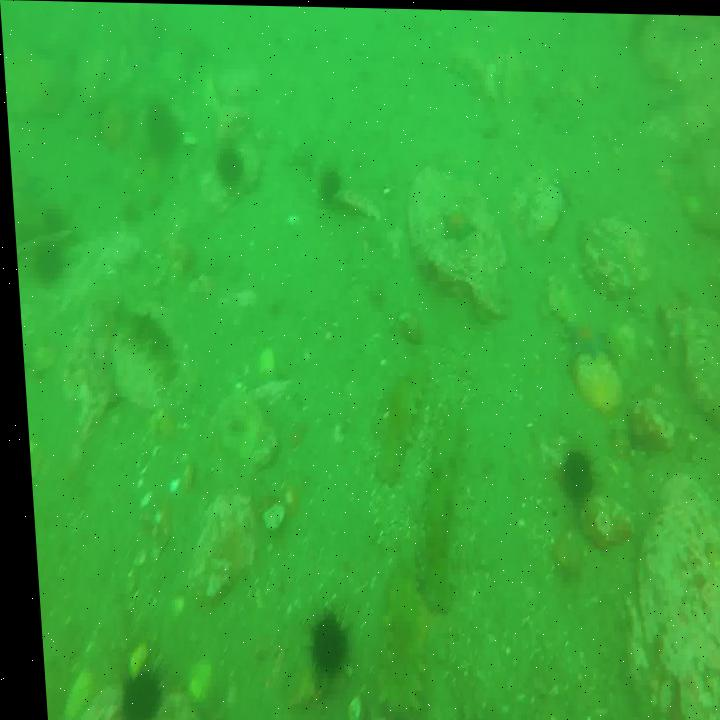echinus: (298, 607, 342, 680), (111, 663, 158, 720), (555, 441, 591, 507), (30, 239, 61, 289), (212, 142, 245, 186), (143, 104, 174, 149), (315, 165, 342, 204)
holothurian: (404, 397, 469, 610), (363, 537, 426, 720), (367, 355, 431, 477), (112, 307, 176, 374)
starfish: (560, 313, 608, 360), (438, 201, 477, 240)
